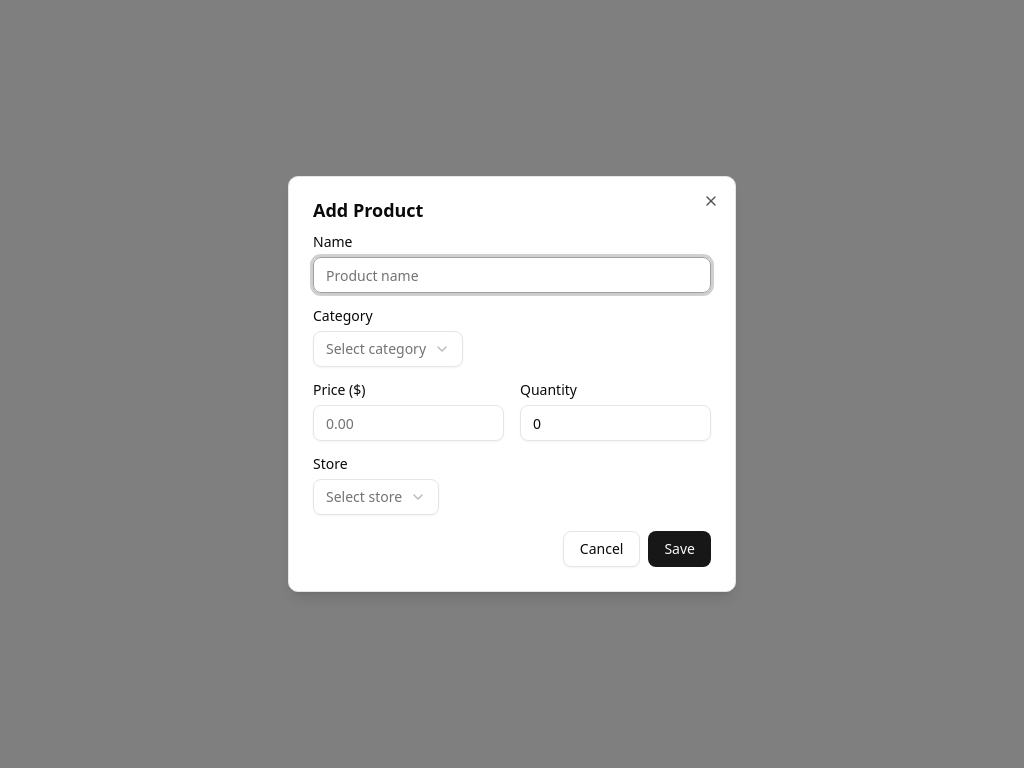
ProductFormDialog › validates required fields
Note: Clear the default quantity value
Clear the number field labelled "Quantity" at (616, 423), box [520,405,711,441]
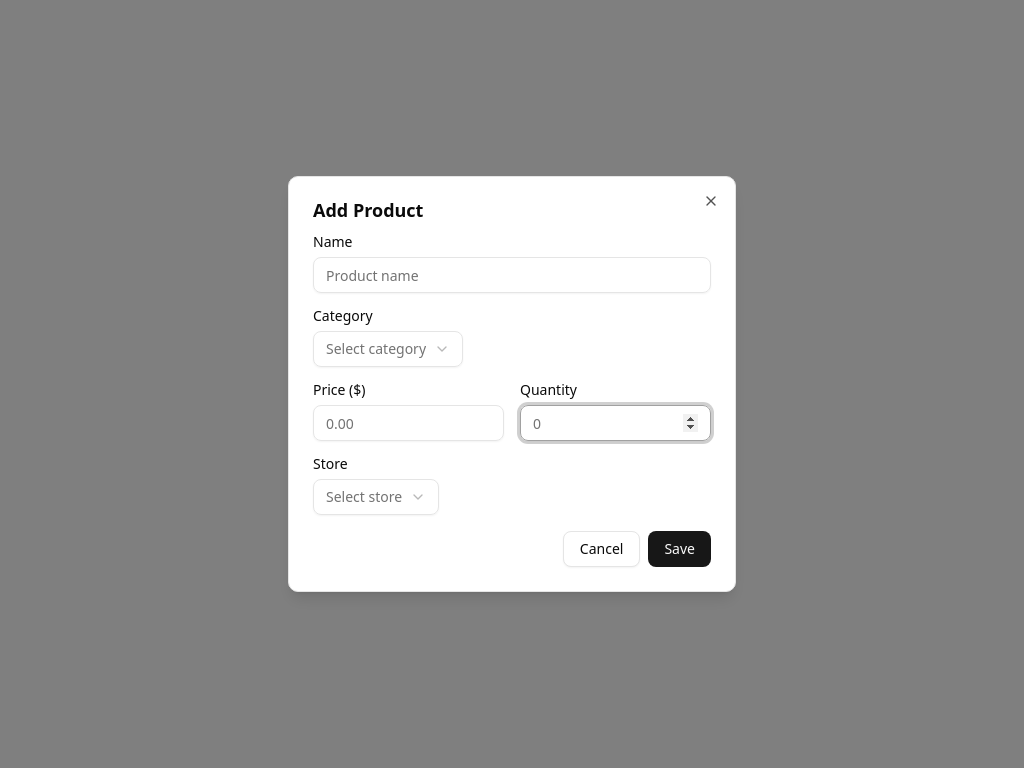
Click the button "Save" at (680, 549), box [648,531,711,567]
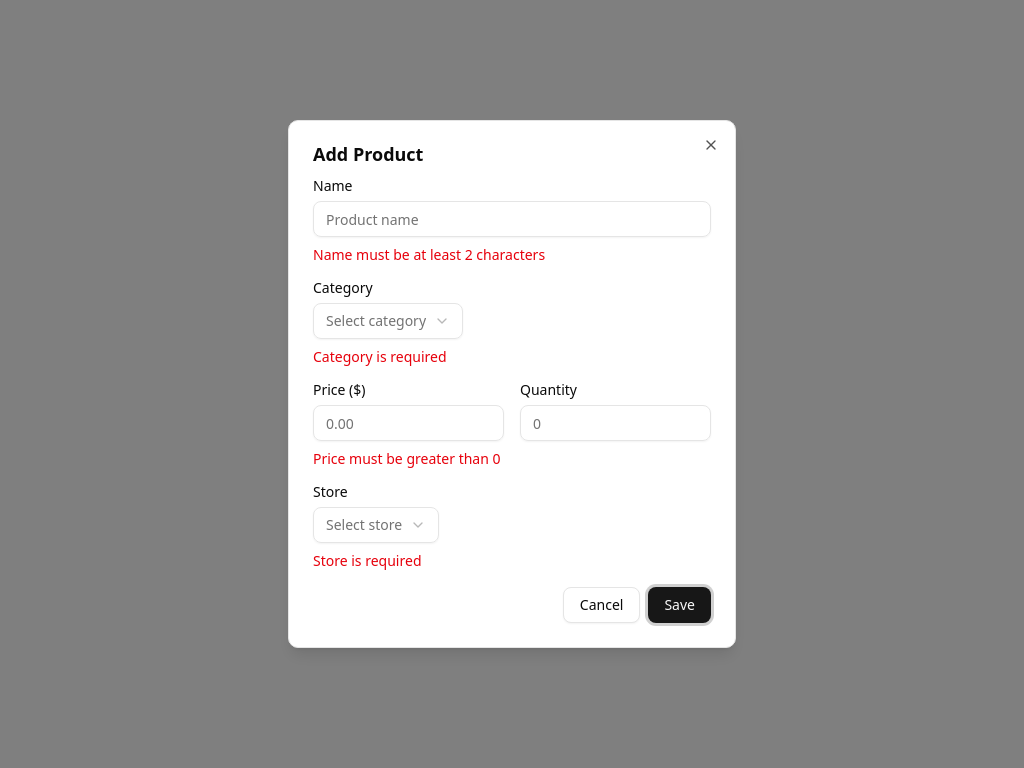
Now the text "Name must be at least 2 characters" is shown, box [313,245,545,264]
Now the text "Category is required" is shown, box [313,347,446,366]
Now the text "Price must be greater than 0" is shown, box [313,449,504,469]
